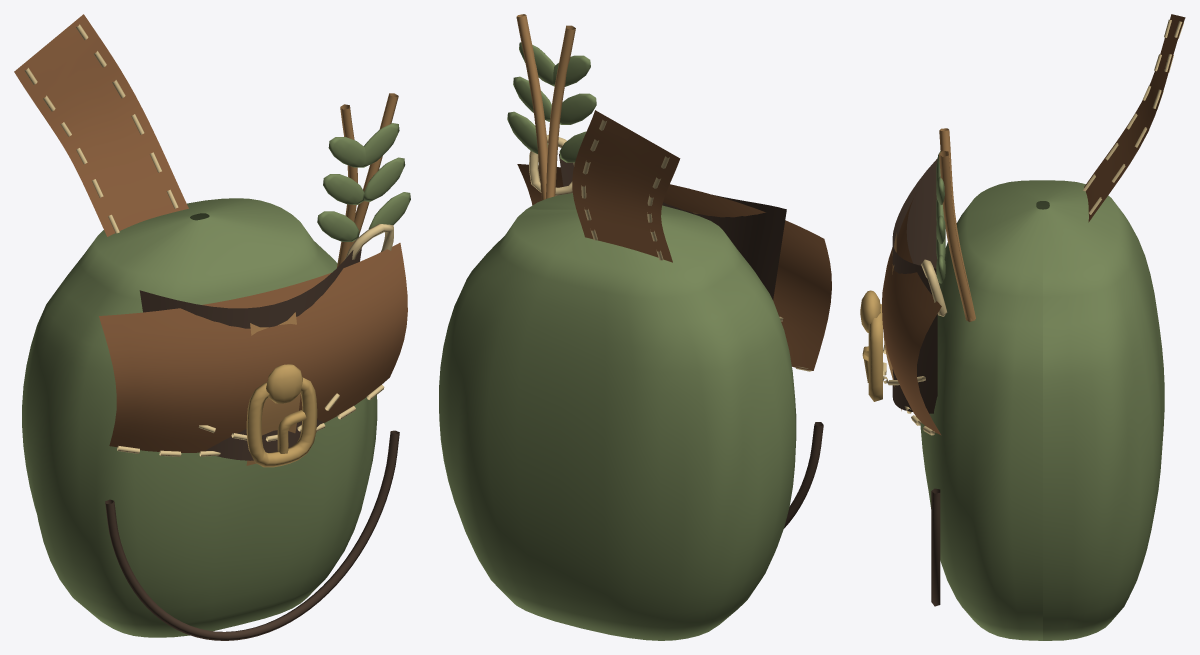
Rendered from foragers_pouch.glb.
3 renders of one model, left to right at view 1: azimuth 30°, elevation 25°; view 2: azimuth 150°, elevation 25°; view 3: azimuth 270°, elevation 25°, orthographic.
Parts seen in each view (by area): view 1: foragers_pouch-canvas, foragers_pouch-leather, foragers_pouch-dark, foragers_pouch-brass, foragers_pouch-stitch, foragers_pouch-trim; view 2: foragers_pouch-canvas, foragers_pouch-leather, foragers_pouch-dark, foragers_pouch-trim, foragers_pouch-stitch; view 3: foragers_pouch-canvas, foragers_pouch-leather, foragers_pouch-dark, foragers_pouch-trim, foragers_pouch-brass, foragers_pouch-stitch.
Part boxes in pixels (bbox=[...]): foragers_pouch-canvas: bbox=[22, 123, 410, 637]; foragers_pouch-leather: bbox=[14, 14, 407, 452]; foragers_pouch-dark: bbox=[105, 248, 399, 640]; foragers_pouch-brass: bbox=[246, 364, 317, 467]; foragers_pouch-stitch: bbox=[24, 24, 393, 456]; foragers_pouch-trim: bbox=[246, 93, 398, 465]; foragers_pouch-canvas: bbox=[439, 42, 796, 640]; foragers_pouch-leather: bbox=[517, 110, 831, 370]; foragers_pouch-dark: bbox=[559, 154, 823, 528]; foragers_pouch-trim: bbox=[516, 14, 698, 213]; foragers_pouch-stitch: bbox=[529, 119, 811, 371]; foragers_pouch-canvas: bbox=[920, 151, 1164, 640]; foragers_pouch-leather: bbox=[882, 14, 1185, 435]; foragers_pouch-dark: bbox=[892, 158, 940, 606]; foragers_pouch-trim: bbox=[883, 128, 975, 410]; foragers_pouch-brass: bbox=[860, 290, 882, 401]; foragers_pouch-stitch: bbox=[882, 19, 1183, 435].
Size of the model in its own units: 0.2235 by 0.3779 by 0.1944.
